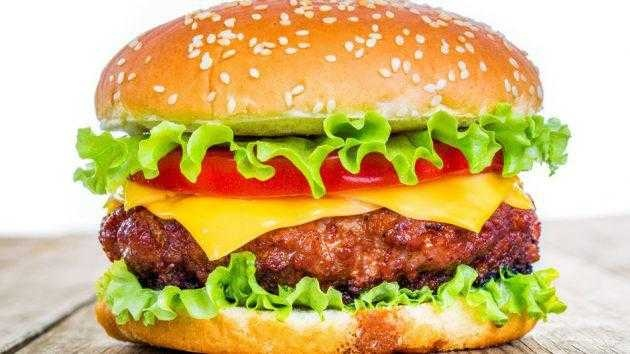hamburger: (79, 5, 594, 345)
